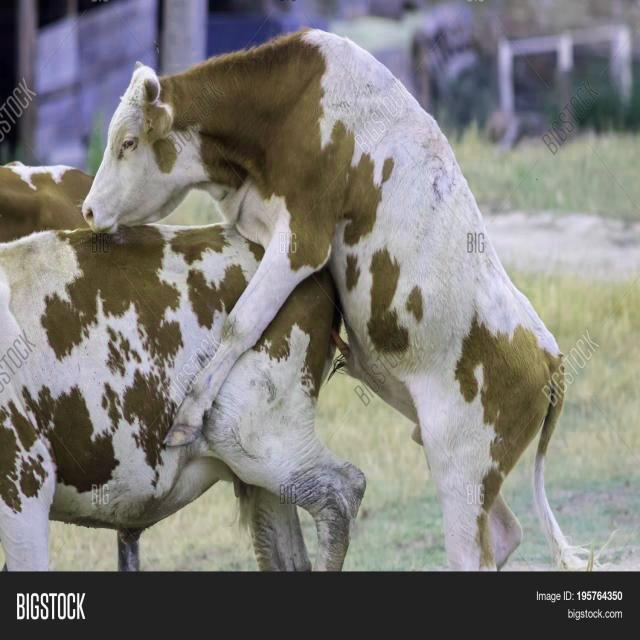cow: (85, 30, 566, 569), (0, 225, 365, 570)
